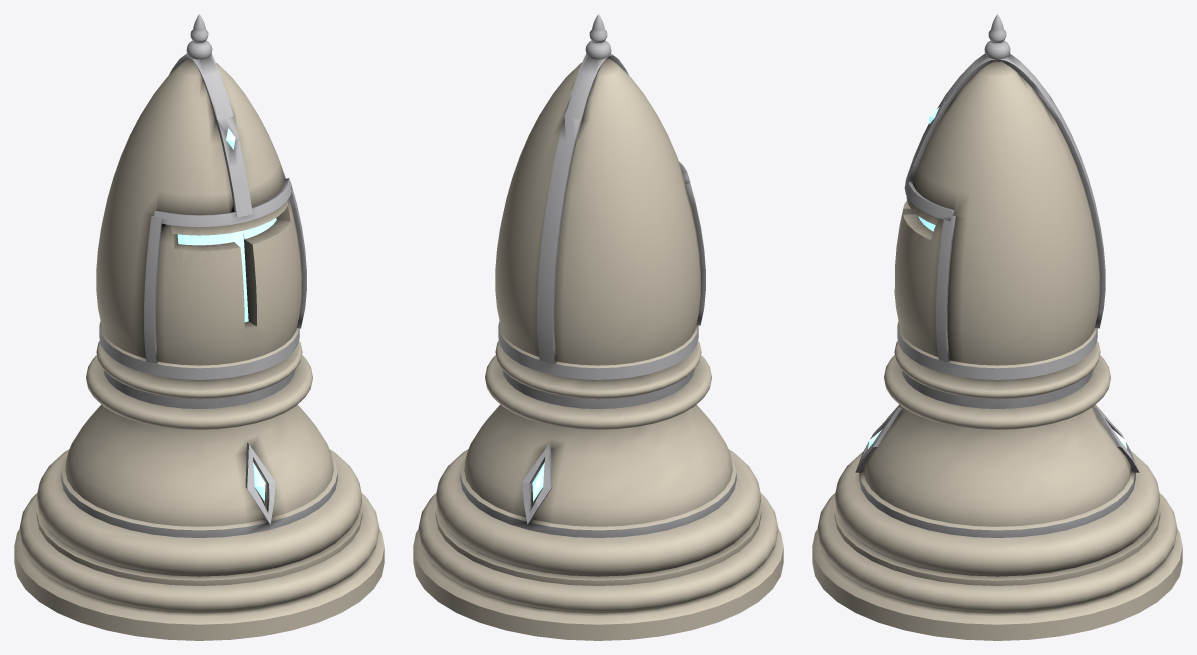
Rendered from bishop.glb.
3 renders of one model, left to right at view 1: azimuth 30°, elevation 25°; view 2: azimuth 150°, elevation 25°; view 3: azimuth 270°, elevation 25°, orthographic.
Visible parts, largest first — view 1: bishop; view 2: bishop; view 3: bishop.
Part boxes in pixels (left/top/right/bottom): bishop: left=14, top=14, right=384, bottom=640; bishop: left=413, top=14, right=783, bottom=640; bishop: left=812, top=14, right=1182, bottom=640.
Size of the model in its own units: 0.74 by 1.21 by 0.74.
